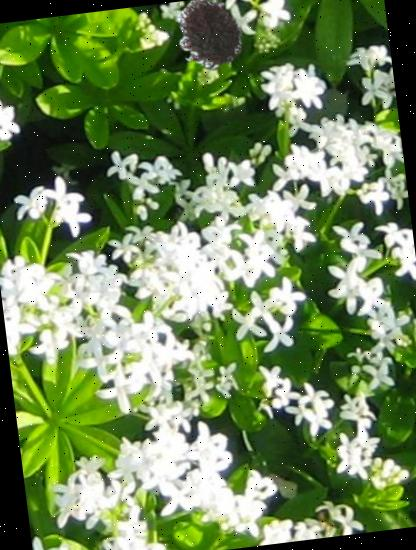Rambutan: (168, 0, 247, 74)
